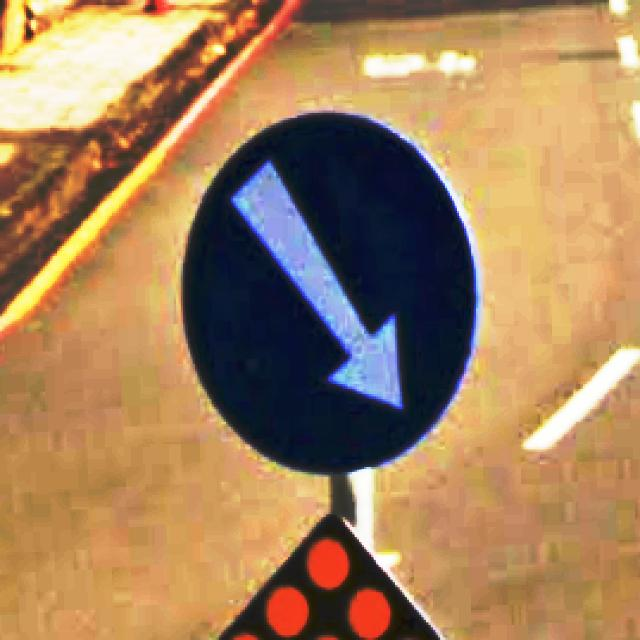thisway: (178, 106, 481, 474)
